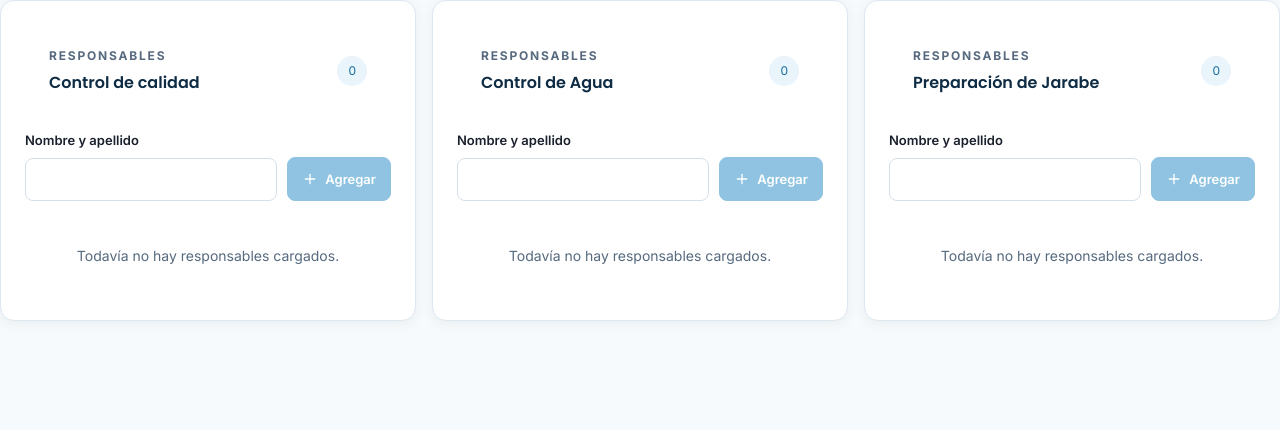
Scenario: adds a person to the chosen module and reloads the lists
Type "  Perez Juan " into the field named "Nuevo responsable de Control de Agua" at (583, 179), box [457, 158, 709, 200]
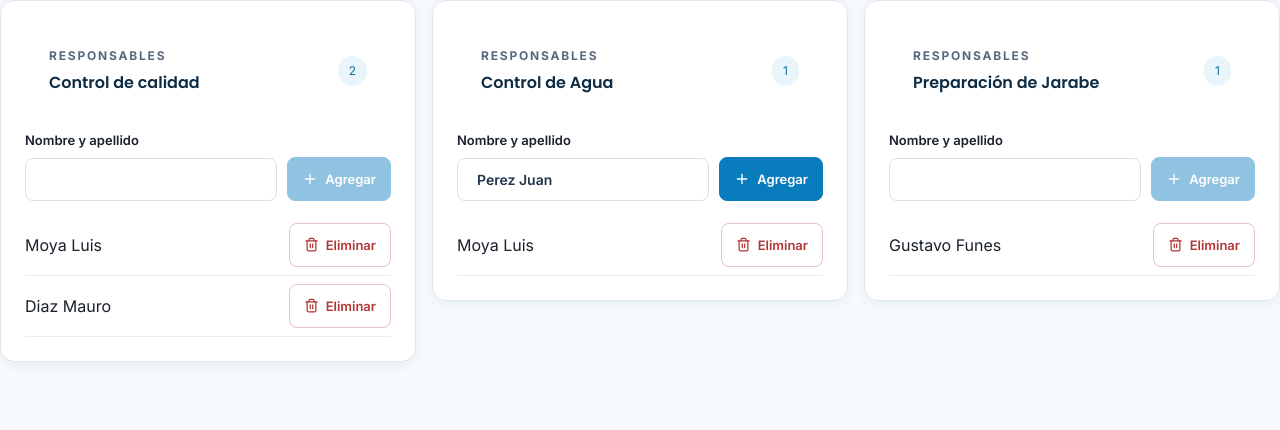
Click the button "Agregar" below "Control de Agua" at (771, 178), box [719, 156, 823, 200]
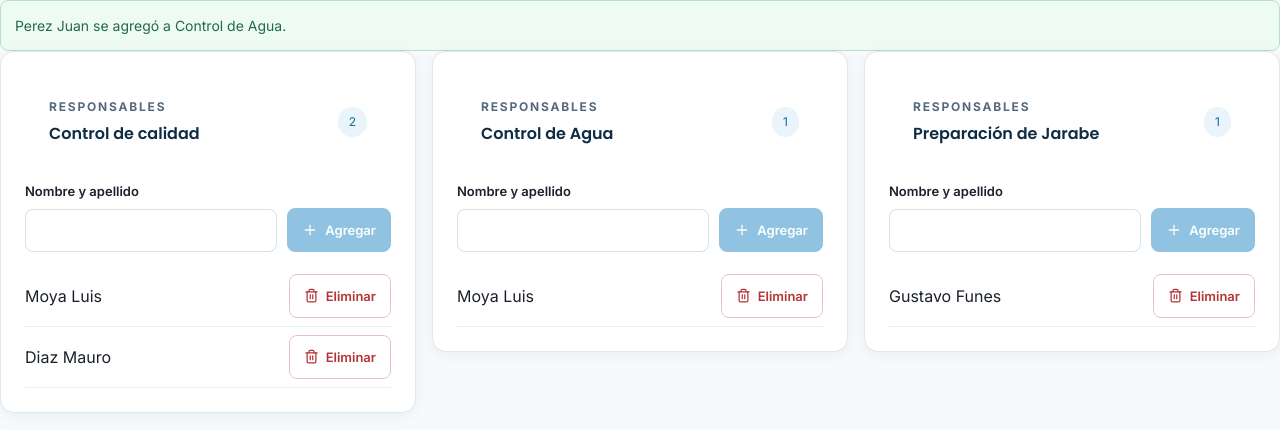
expect the message shows "Perez Juan": met, box [15, 17, 286, 34]
expect the field named "Nuevo responsable de Control de Agua" is empty: met, box [457, 208, 709, 252]
